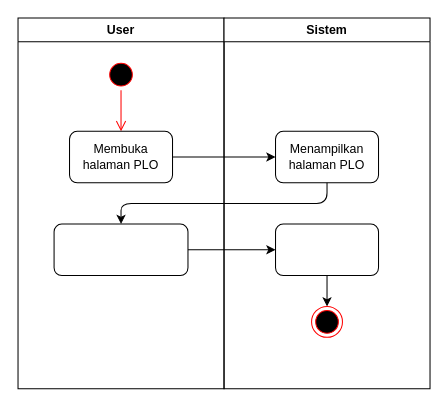
Image size: 448x407. Some labels were removed from this diagram. The centre of each missing label's shape, as x and y in pixels:
"Menampilkan halaman report PLO" goes at pixel 326 249.
"Pada kolom report PLO tekan tombol pada salah satu data PLO" goes at pixel 120 249.
